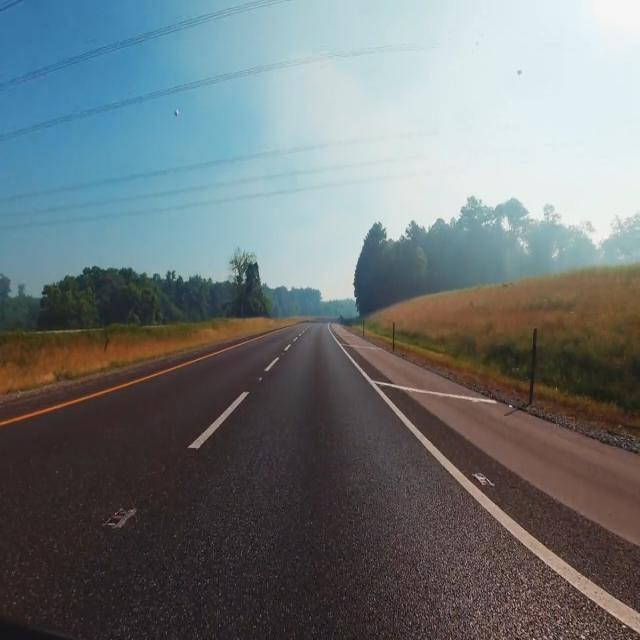asphalt: (0, 323, 640, 639)
